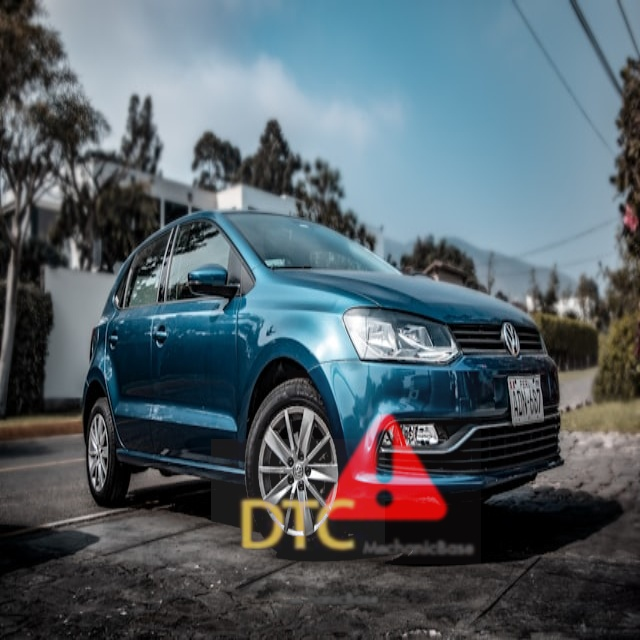symbol: (287, 370, 481, 564), (211, 439, 385, 613)
